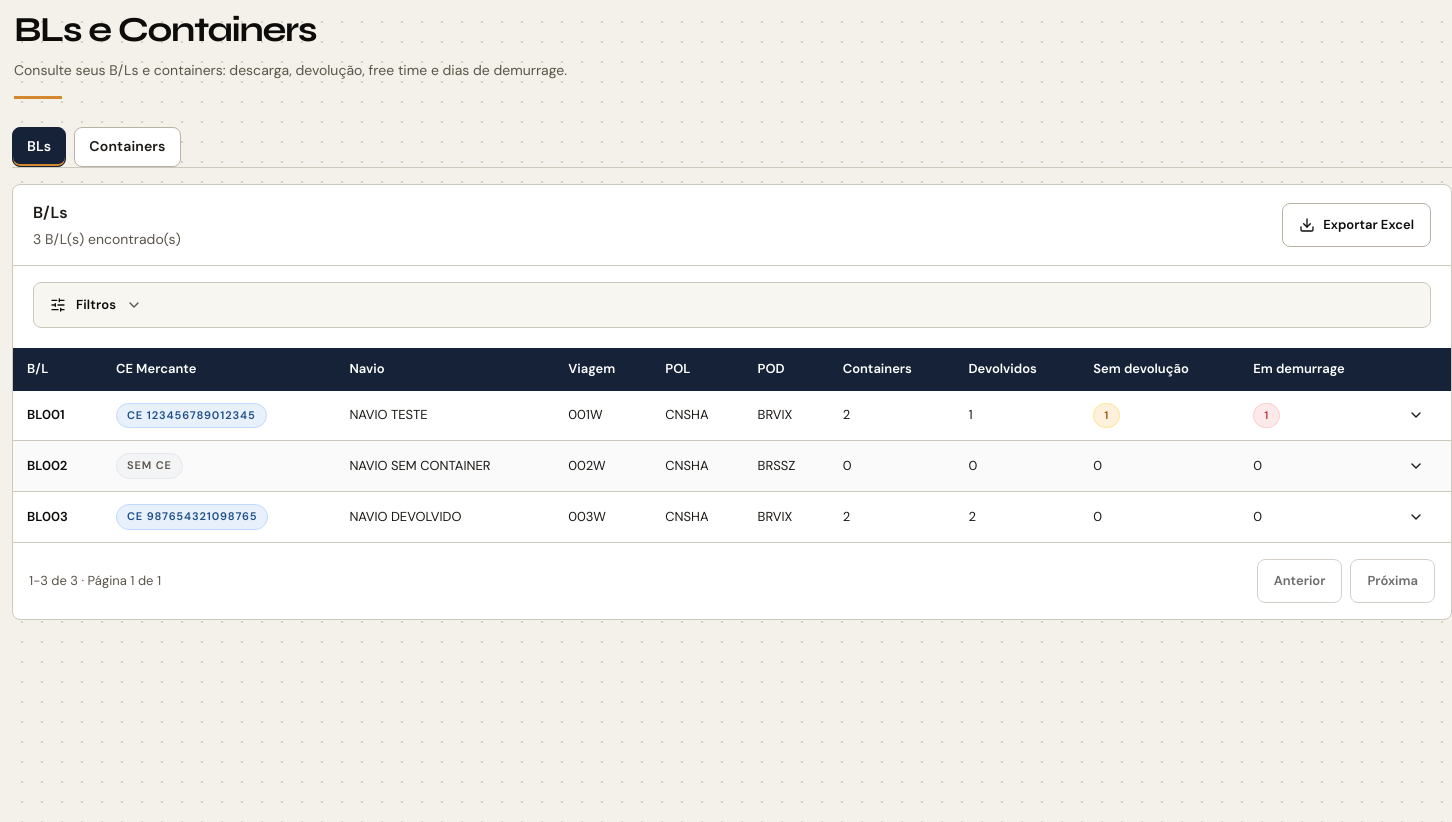
Test: PortalOperacao (BLs e Containers) › deriva a aba Containers dos containers dos B/Ls
Click the tab "Containers" at (128, 147), box left=74, top=127, right=181, bottom=167
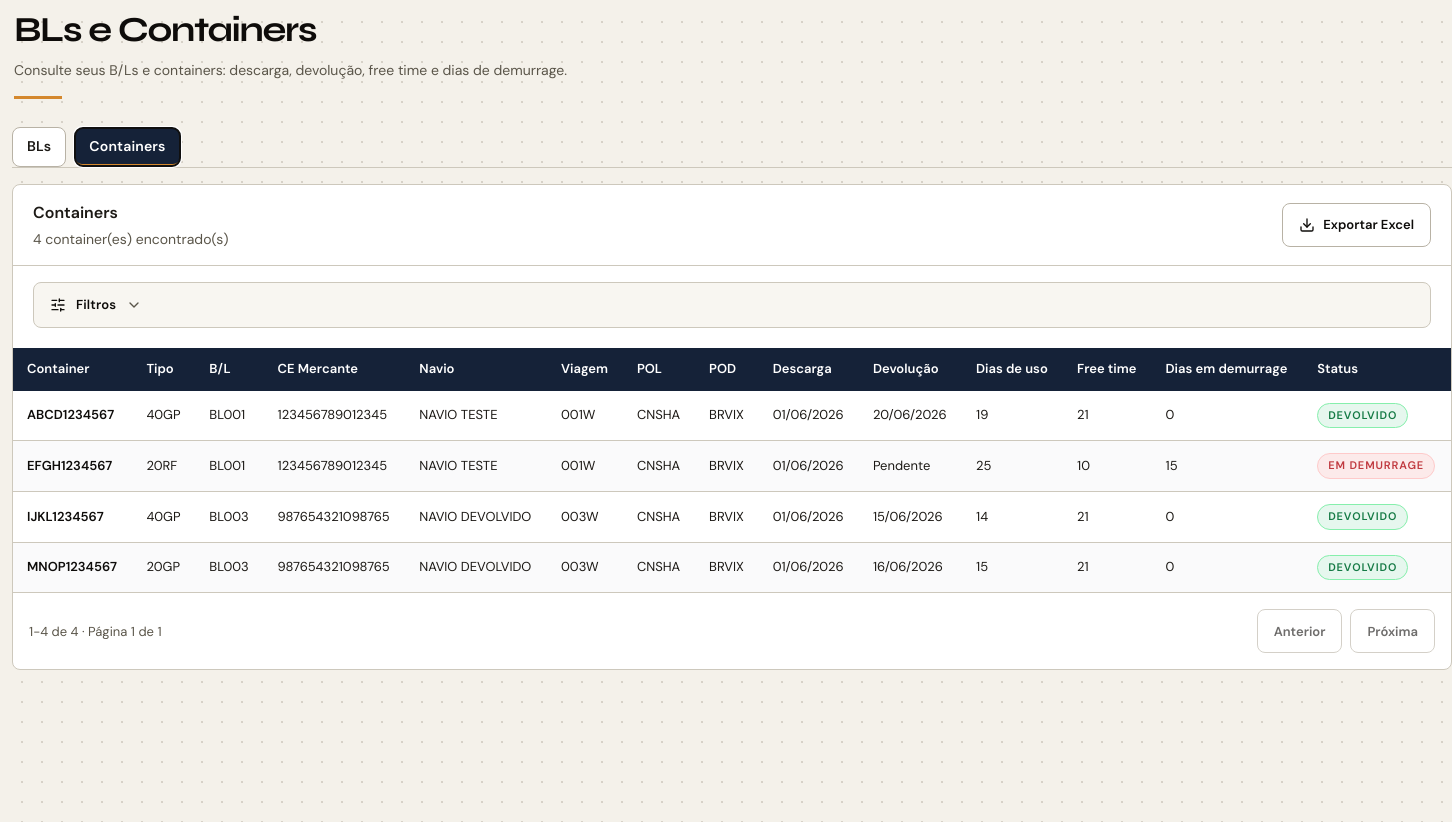
Now the text "ABCD1234567" is shown, box left=13, top=391, right=132, bottom=441
Now the text "EFGH1234567" is shown, box left=13, top=441, right=132, bottom=492
Now the text "IJKL1234567" is shown, box left=13, top=492, right=132, bottom=542
